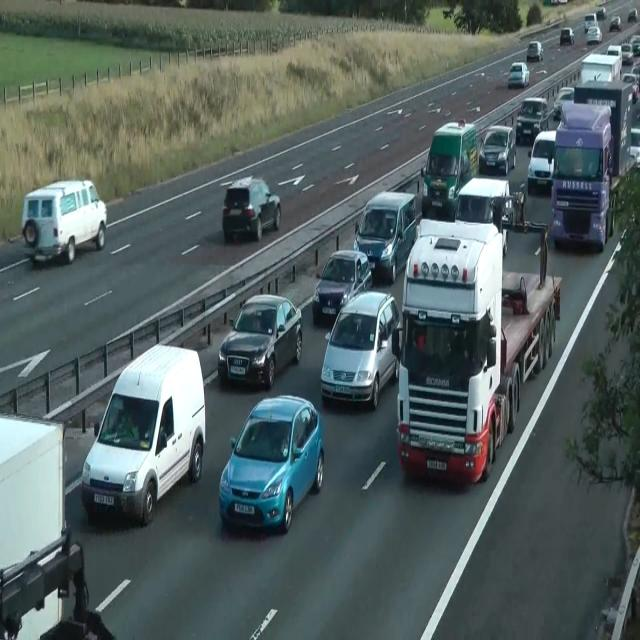bus: (218, 394, 324, 534), (218, 294, 302, 389), (312, 248, 372, 324), (221, 175, 281, 242), (478, 124, 516, 176), (553, 85, 575, 120), (508, 61, 530, 88), (621, 73, 638, 103), (526, 40, 544, 61), (629, 127, 639, 164), (606, 44, 622, 64), (620, 43, 634, 64), (586, 25, 602, 43), (584, 12, 597, 32), (560, 26, 574, 44), (629, 35, 639, 56), (609, 15, 621, 31), (628, 8, 638, 22), (596, 7, 606, 20), (550, 0, 567, 4)
car: (549, 100, 615, 252)
jeep: (80, 342, 206, 526), (320, 289, 400, 410), (21, 178, 107, 265), (353, 190, 417, 284), (420, 118, 478, 217), (454, 176, 514, 256), (526, 130, 556, 194), (515, 95, 547, 143), (579, 52, 622, 84)
minibus: (392, 216, 562, 485), (0, 412, 114, 639), (0, 411, 66, 579), (573, 79, 639, 179)
